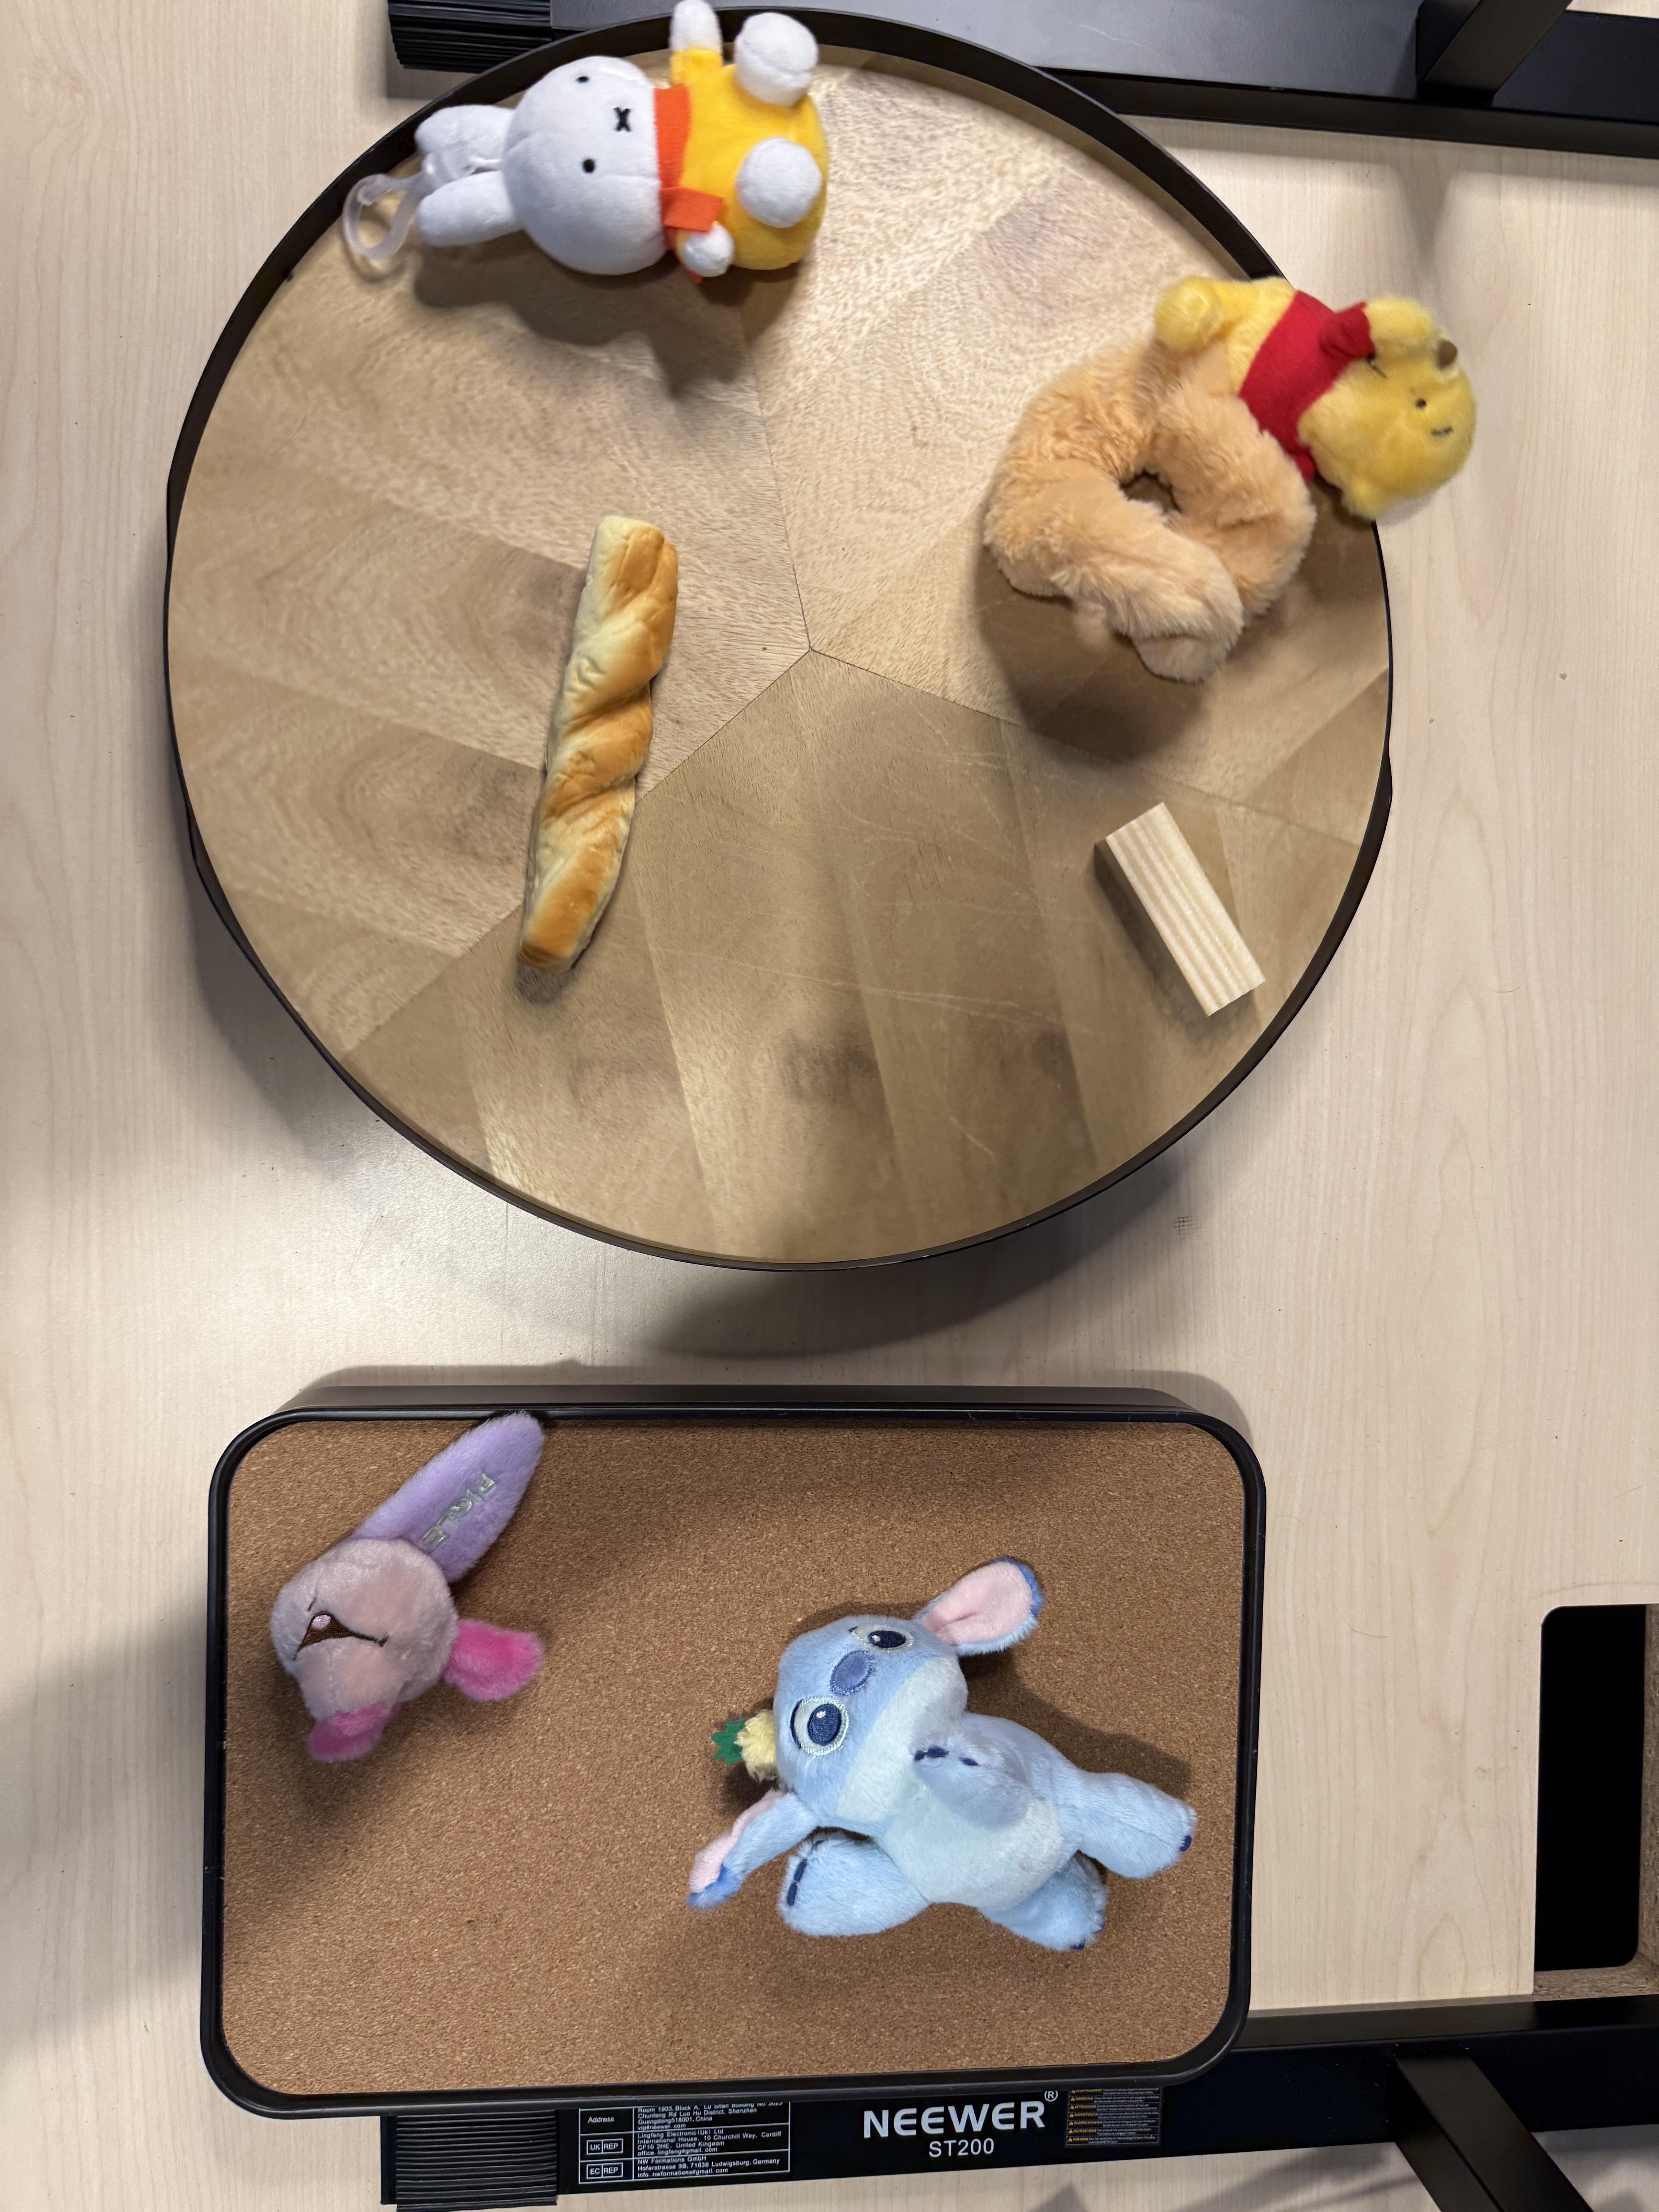block: (1100, 798, 1270, 1014)
bread: (511, 510, 667, 956)
doll: (964, 263, 1481, 676), (685, 1557, 1195, 1956), (403, 0, 836, 284), (267, 1406, 551, 1770)
